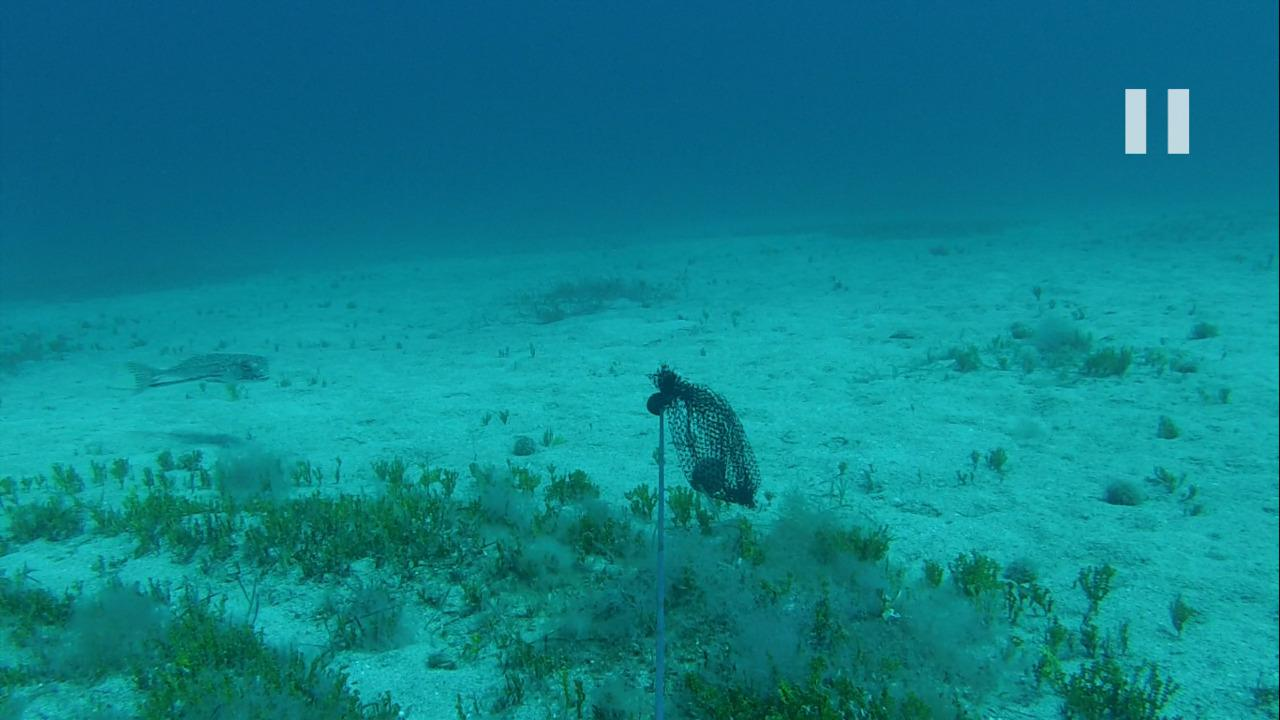dactylopterus: (118, 346, 274, 397)
